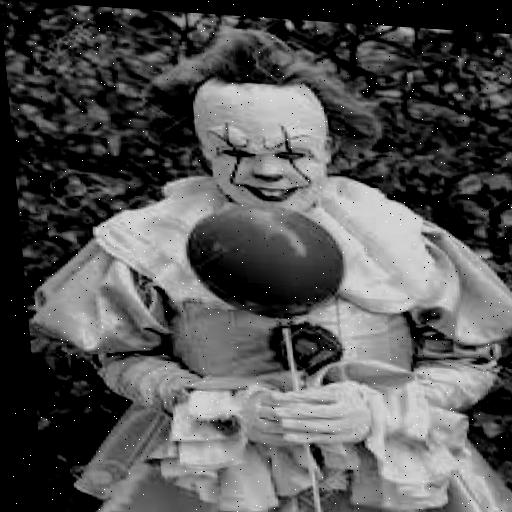balloon: (182, 200, 352, 322)
